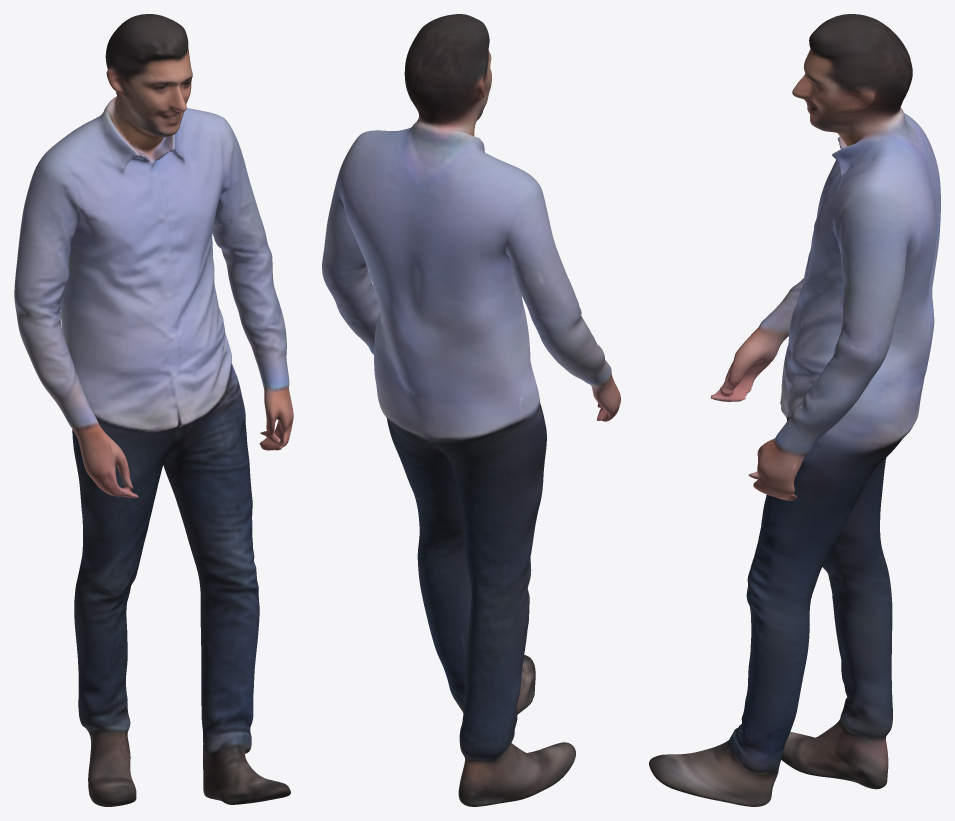
File: sample_00.glb
The picture shows the model from 3 angles, left to right: view 1: azimuth 30°, elevation 25°; view 2: azimuth 150°, elevation 25°; view 3: azimuth 270°, elevation 25°; orthographic projection. The views are drawn at different scales.
Bounding box in the file's own units: 0.641 × 1.85 × 0.6271.
1 material, 1 textured.
